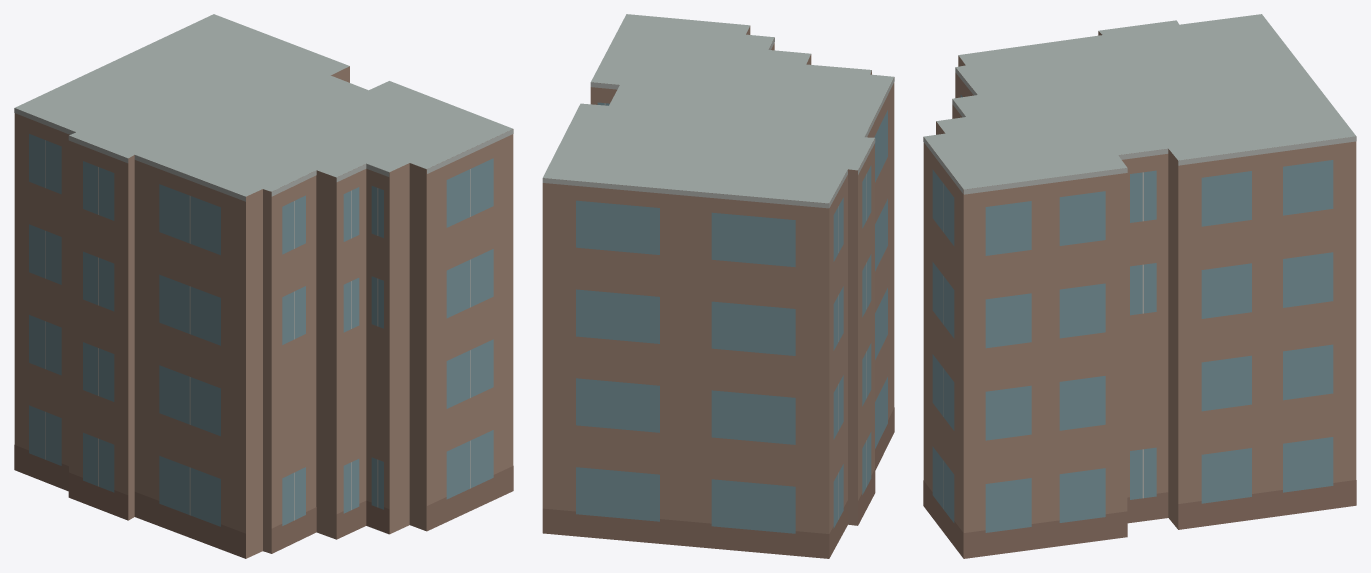
File: survey-upis-32658508.glb
3 views of the same model, side by side, from view 1: azimuth 30°, elevation 25°; view 2: azimuth 150°, elevation 25°; view 3: azimuth 270°, elevation 25° (orthographic). The views are drawn at different scales.
Visible parts, largest first — view 1: survey-upis-32658508.tmp; view 2: survey-upis-32658508.tmp; view 3: survey-upis-32658508.tmp.
Part boxes in pixels (x1,y1,x2,y2): survey-upis-32658508.tmp: [14, 14, 513, 558]; survey-upis-32658508.tmp: [542, 14, 894, 558]; survey-upis-32658508.tmp: [923, 14, 1356, 558].
Bounding box in the file's own units: 17.92 × 17.57 × 18.68.
